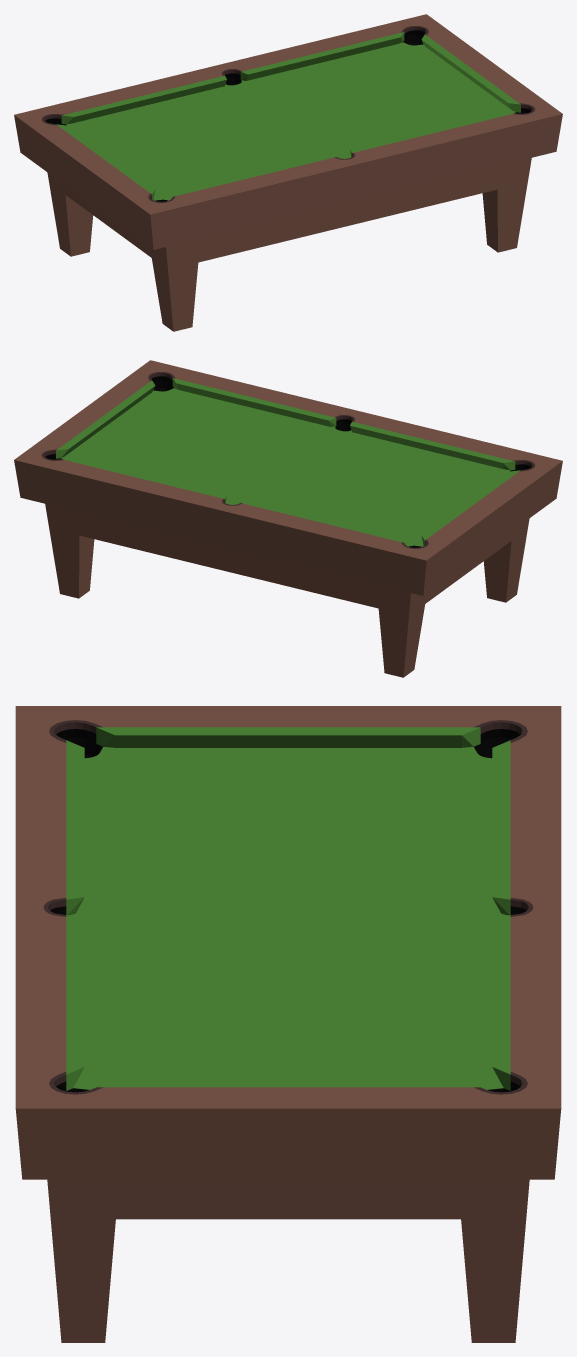
File: PoolTable.glb
3 renders of one model, top to bottom at view 1: azimuth 30°, elevation 25°; view 2: azimuth 150°, elevation 25°; view 3: azimuth 270°, elevation 25°, orthographic. The views are drawn at different scales.
Parts seen in each view (by area): view 1: PoolTable; view 2: PoolTable; view 3: PoolTable.
Part boxes in pixels (bbox=[...]): PoolTable: bbox=[14, 14, 562, 331]; PoolTable: bbox=[14, 360, 562, 677]; PoolTable: bbox=[15, 706, 561, 1342].
Size of what is drawn, in the model's own units: 26.2 by 8.13 by 15.
1 material, 1 textured.
